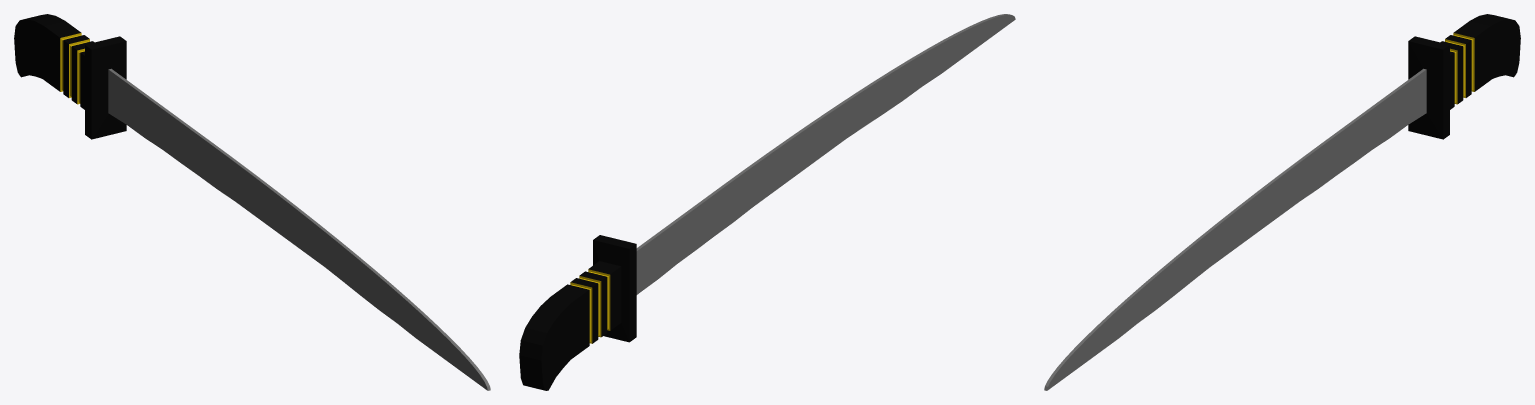
File: Sword.fbx
3 views of the same model, side by side, from view 1: azimuth 30°, elevation 25°; view 2: azimuth 150°, elevation 25°; view 3: azimuth 330°, elevation 25° (orthographic). The views are drawn at different scales.
Parts seen in each view (by area): view 1: Cube.093; view 2: Cube.093; view 3: Cube.093.
Part boxes in pixels (x1,y1,x2,y2): Cube.093: (14, 14, 490, 390); Cube.093: (519, 14, 1015, 390); Cube.093: (1044, 14, 1520, 390).
Size of the model in its own units: 8.3 by 20.27 by 190.
